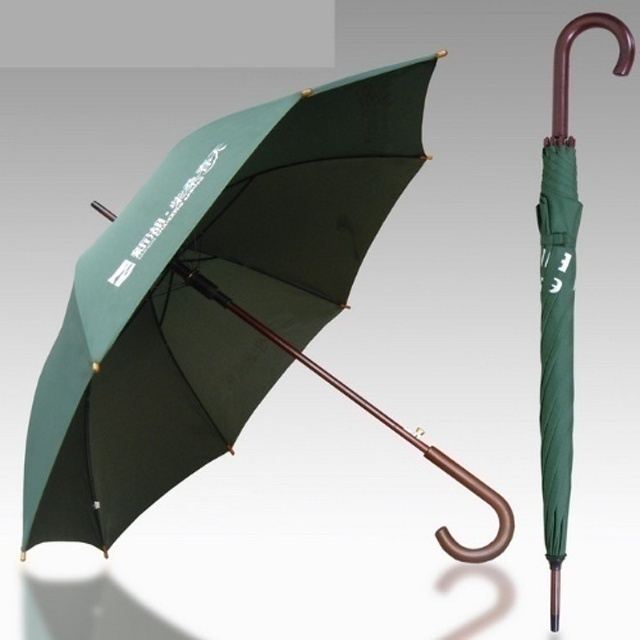umbrella: (14, 38, 518, 567), (532, 10, 640, 640)
